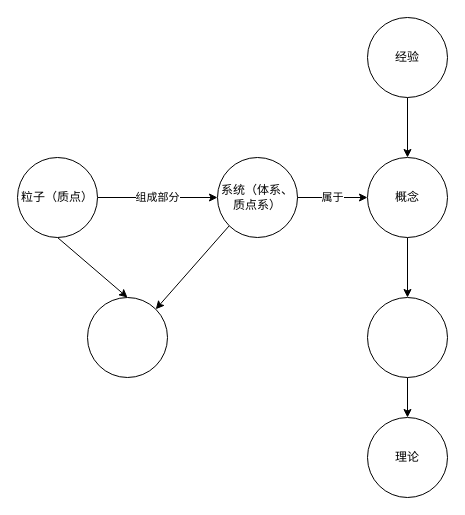
The diagram is 465 pixels wide and 515 high, and some of its shapes have lost their labels. The box of each missing label's shape, as (x1, y1, x2, y2) in pixels:
定律: (366, 296, 448, 378)
运动: (86, 296, 168, 378)
